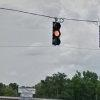Traffic light: (42, 12, 75, 51)
